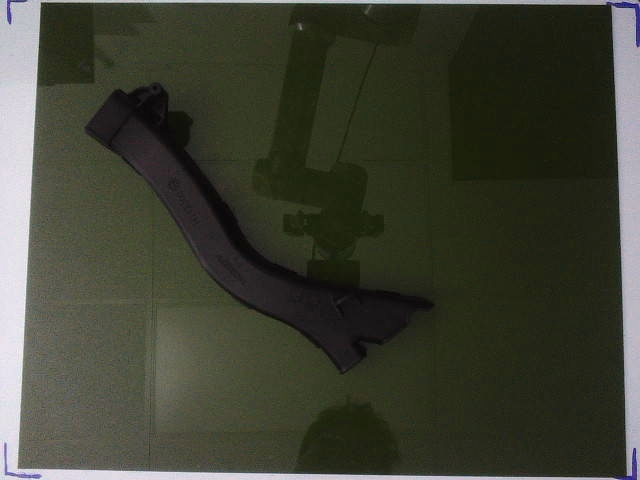887_A-Top: (86, 82, 434, 373)
